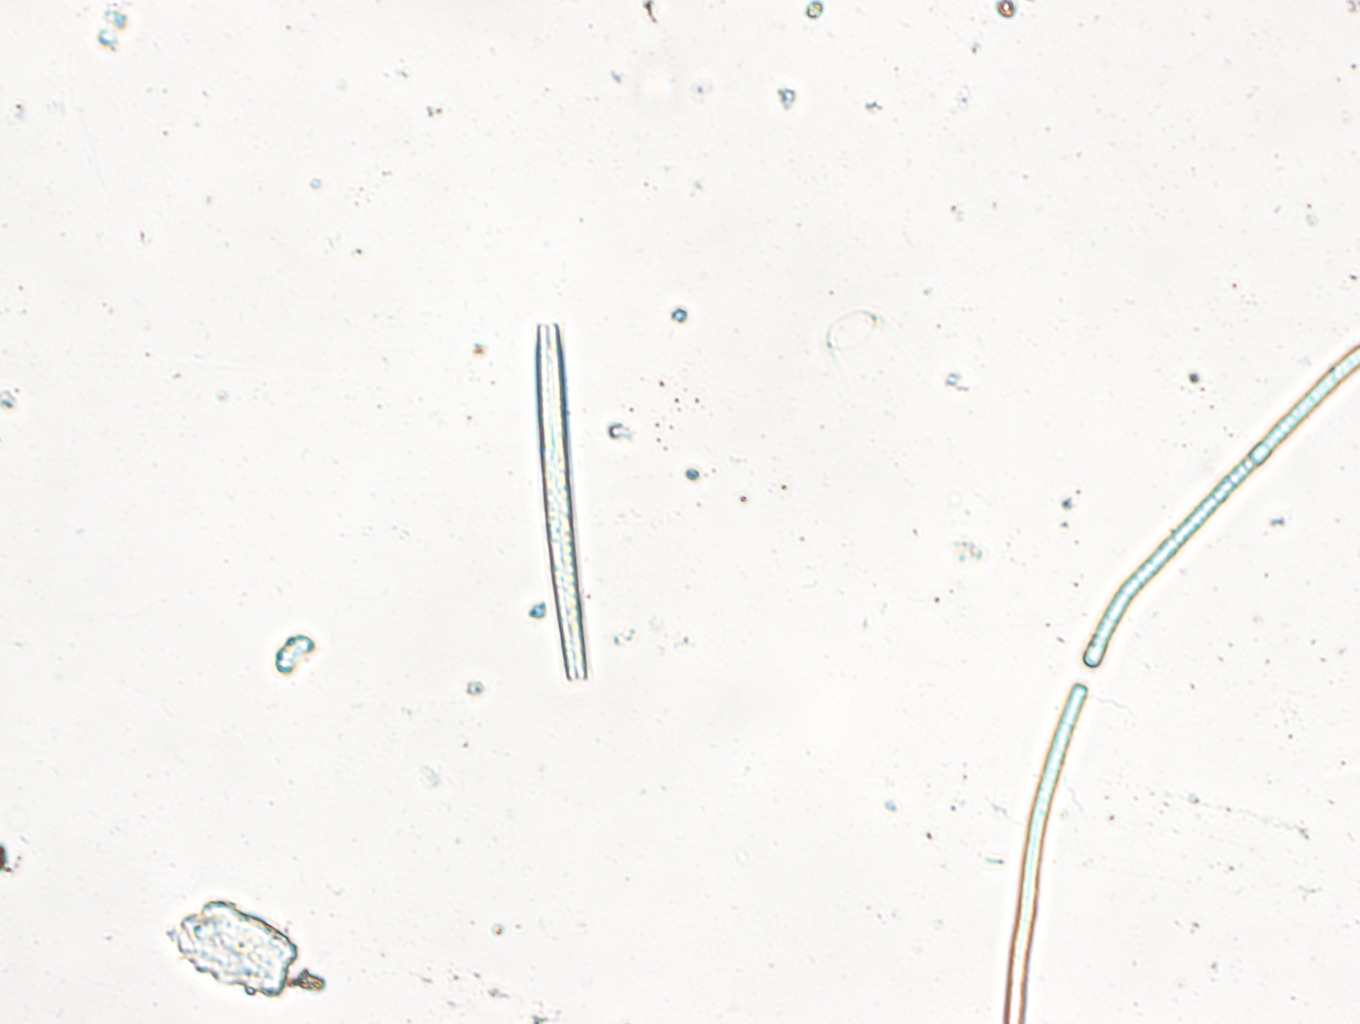thalassionema nitzschioides: (533, 323, 589, 682)
